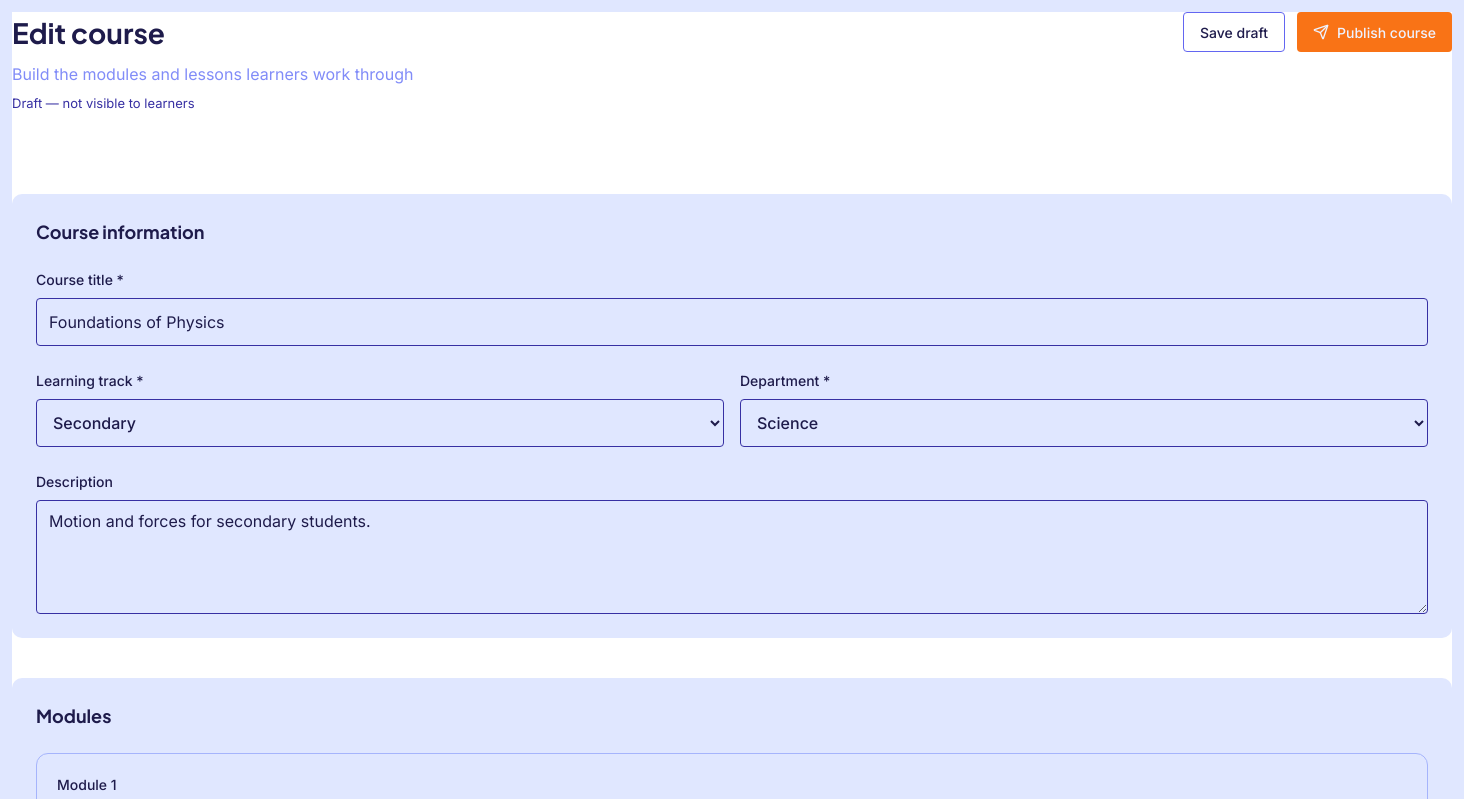
Scenario: CourseBuilder › puts publish errors against the lesson they belong to
Click the button "Publish course".
click(1374, 32)  # box [1297,12,1452,52]
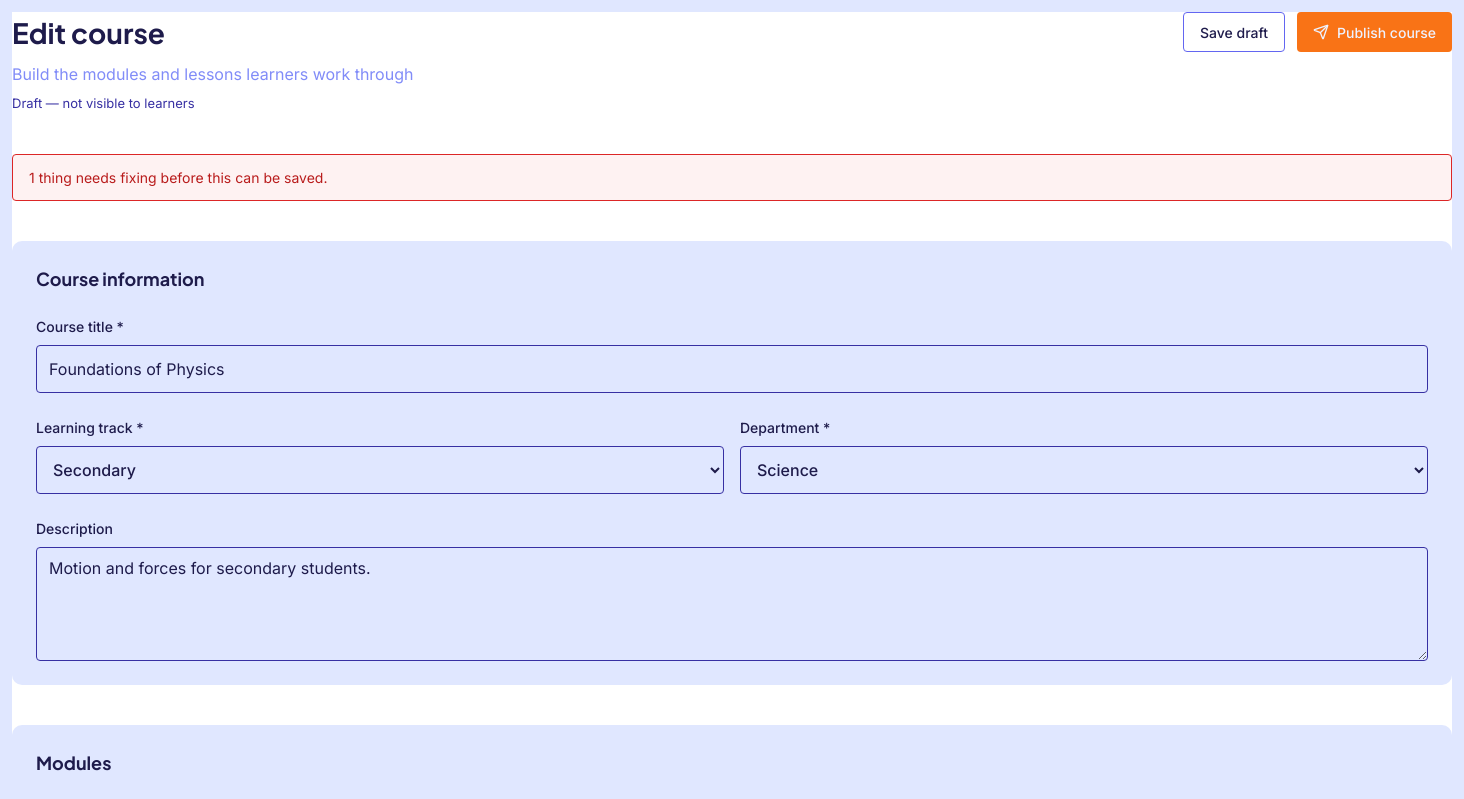
Check: the message shows "1 thing needs fixing", box [29,168,328,186]
